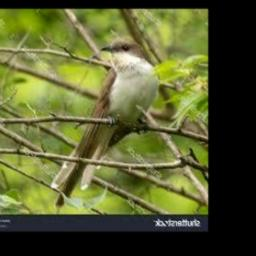Cuckoo: (51, 38, 157, 206)
